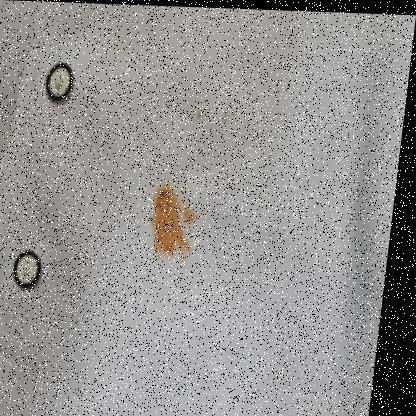kimchi: (142, 177, 211, 261)
